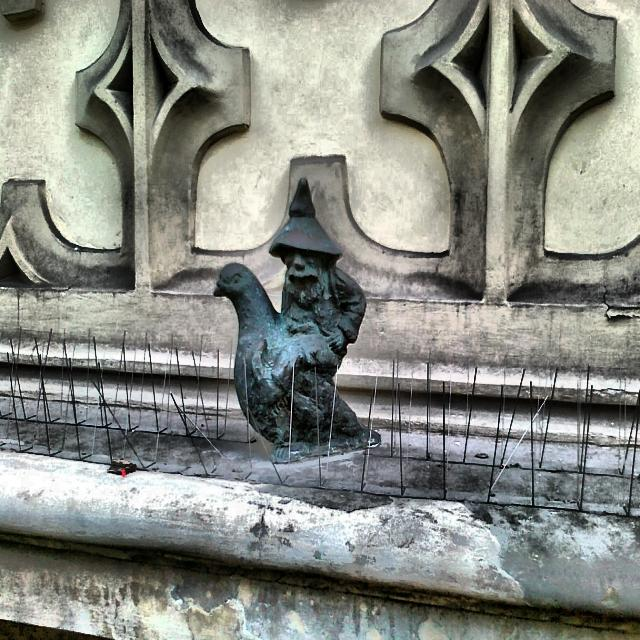Golebnik: (213, 178, 369, 465)
